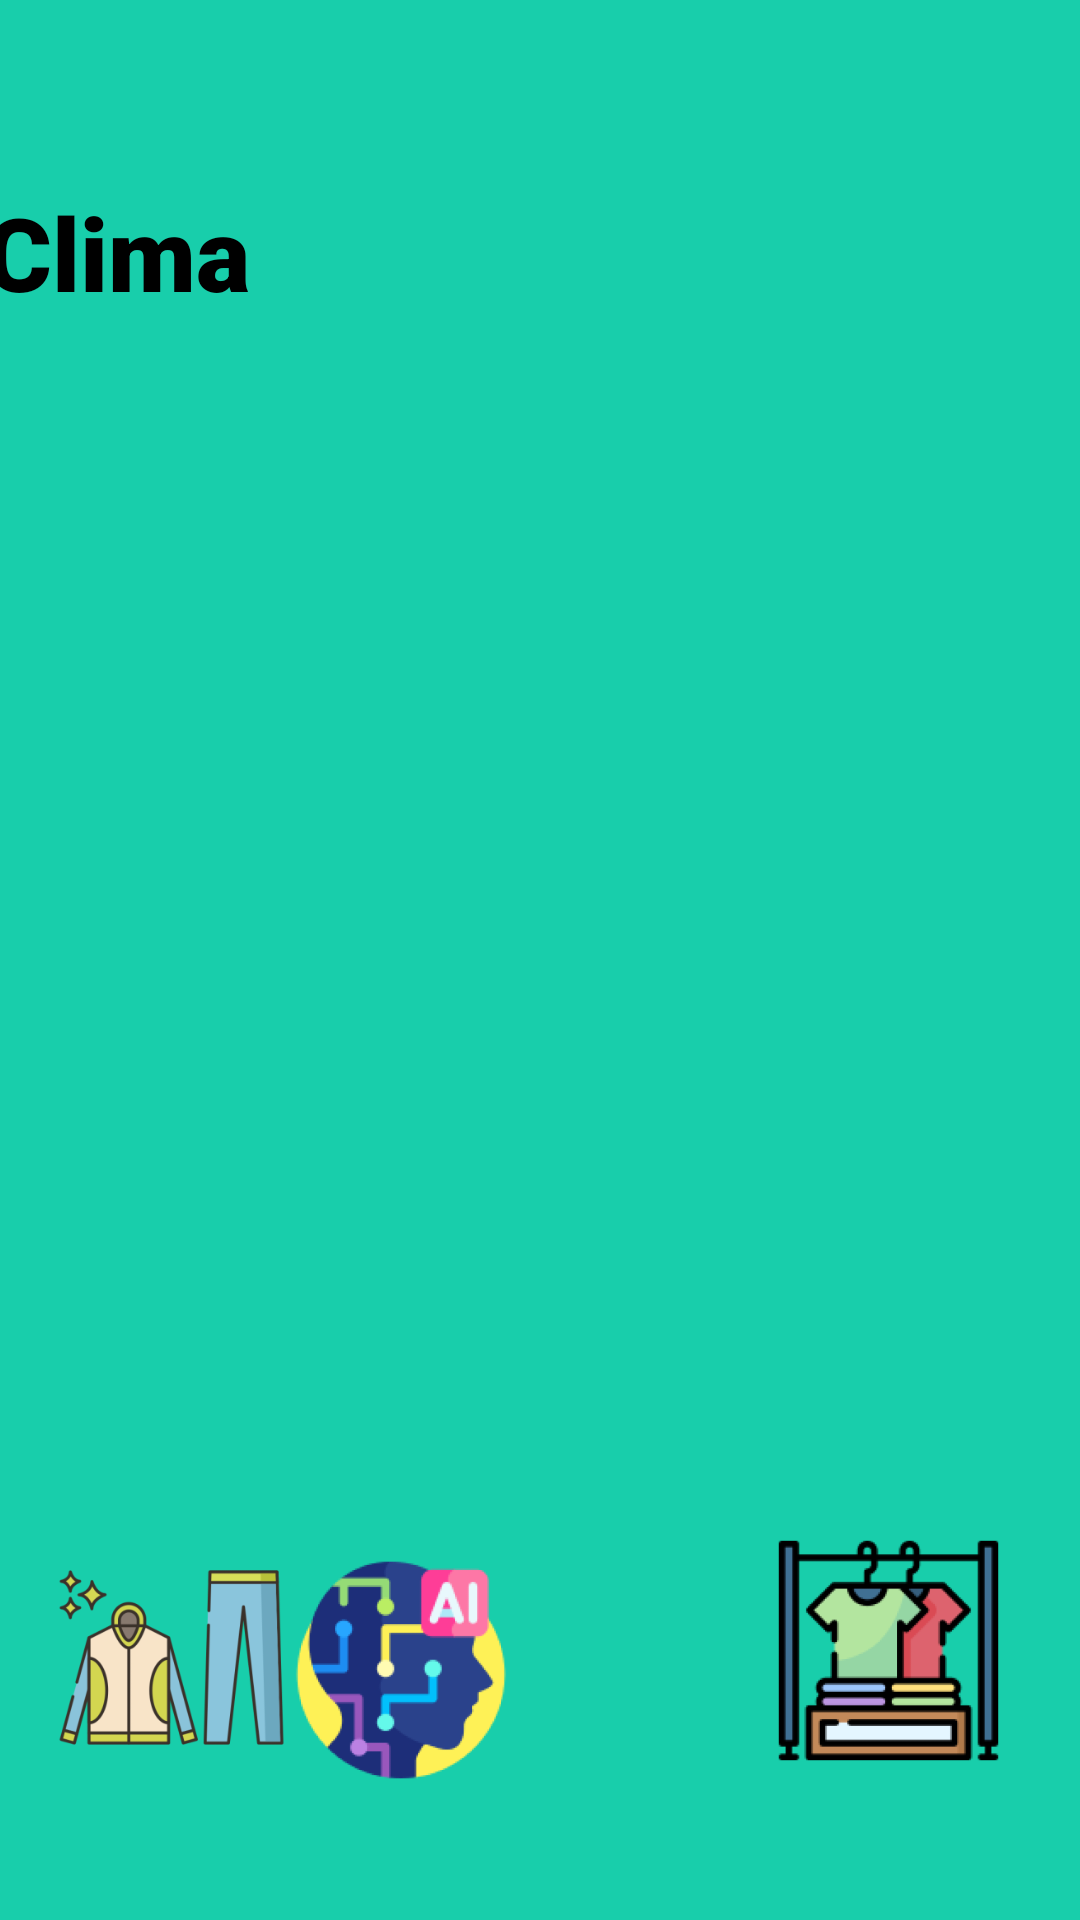

Icon bounding boxes for this 1080px x 1920px phone screenshot, format region(x1, y1, x2, y2):
tus prendas home: region(778, 1540, 999, 1761)
